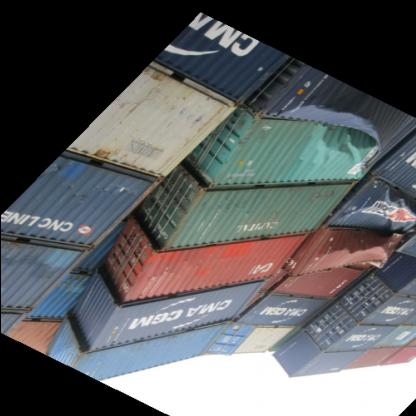Damage: (280, 101, 388, 182), (316, 232, 396, 272), (354, 188, 416, 228)
